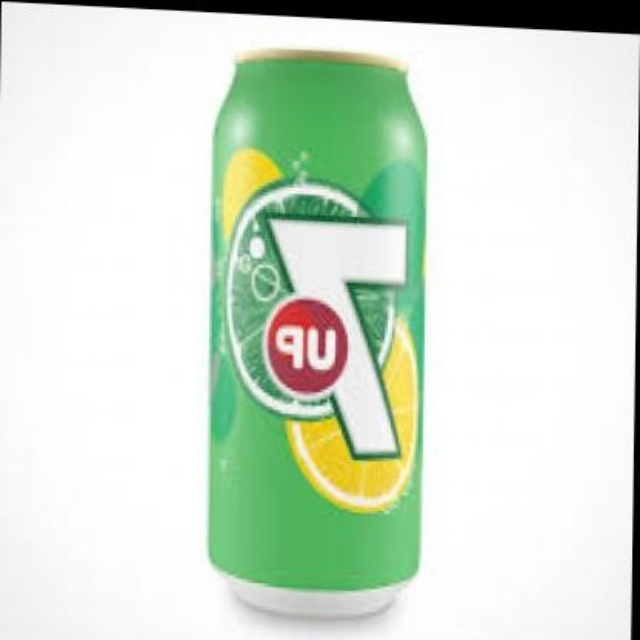trash: (209, 51, 425, 615)
